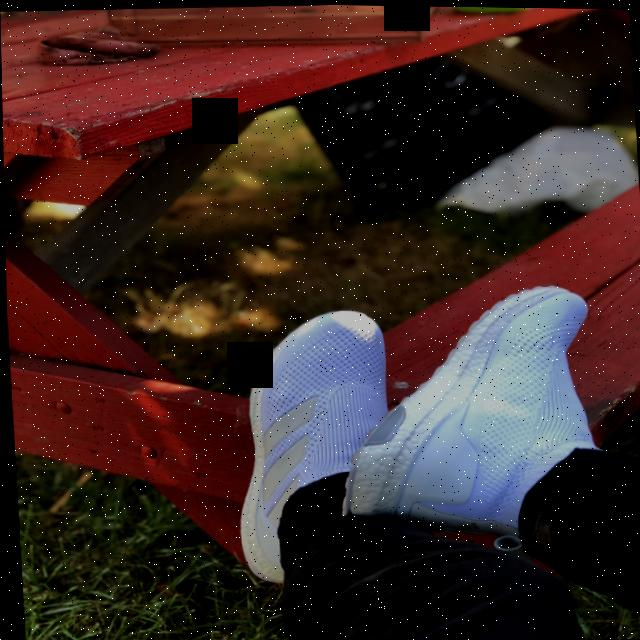shoes: (370, 260, 640, 561), (163, 272, 400, 583)
